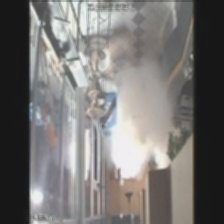smoke: (102, 40, 182, 190)
